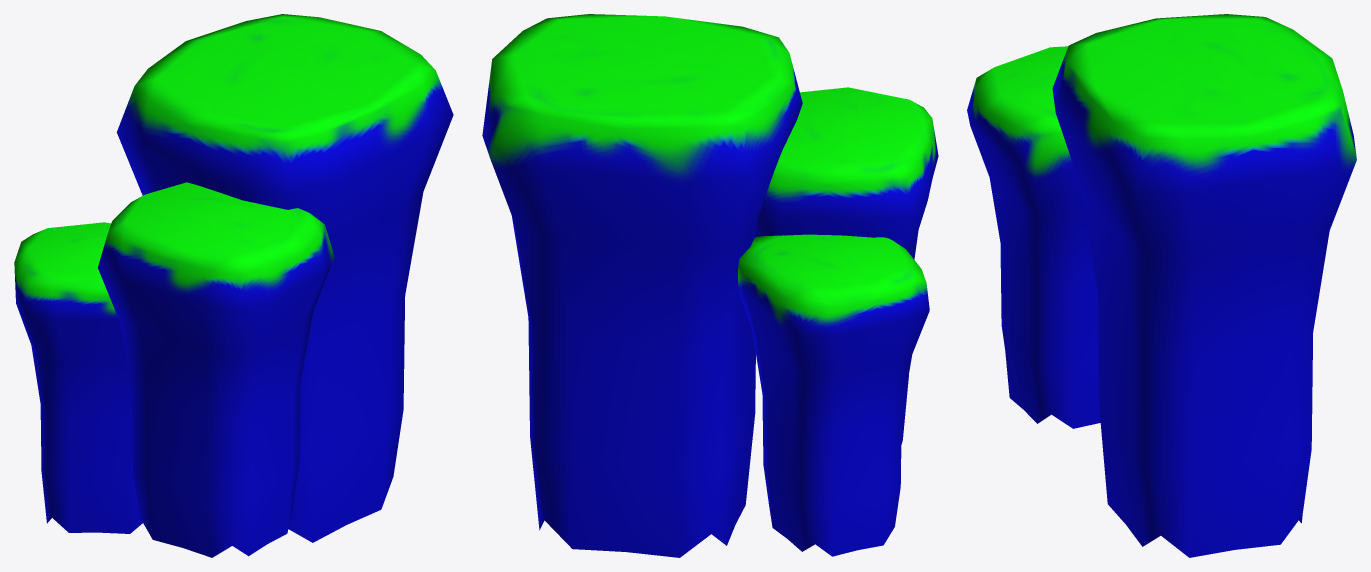
The model's file is PlatformIslands1Shape.dae.
The picture shows the model from 3 angles, left to right: view 1: azimuth 30°, elevation 25°; view 2: azimuth 150°, elevation 25°; view 3: azimuth 270°, elevation 25°; orthographic projection. The views are drawn at different scales.
Parts seen in each view (by area): view 1: PlatformIslands1; view 2: PlatformIslands1; view 3: PlatformIslands1.
Part boxes in pixels (x1,y1,x2,y2): PlatformIslands1: (14, 14, 453, 557); PlatformIslands1: (482, 14, 938, 557); PlatformIslands1: (967, 14, 1356, 557).
Bounding box in the file's own units: 72.88 × 75.16 × 59.57.
